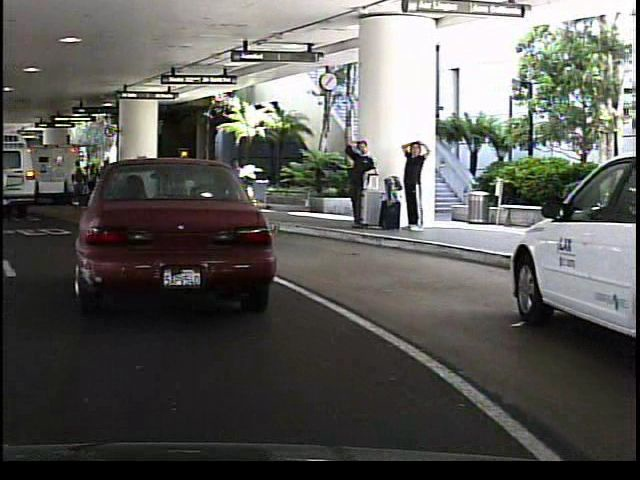person: (342, 134, 374, 229), (397, 135, 427, 234), (221, 152, 249, 220), (359, 152, 380, 223)
